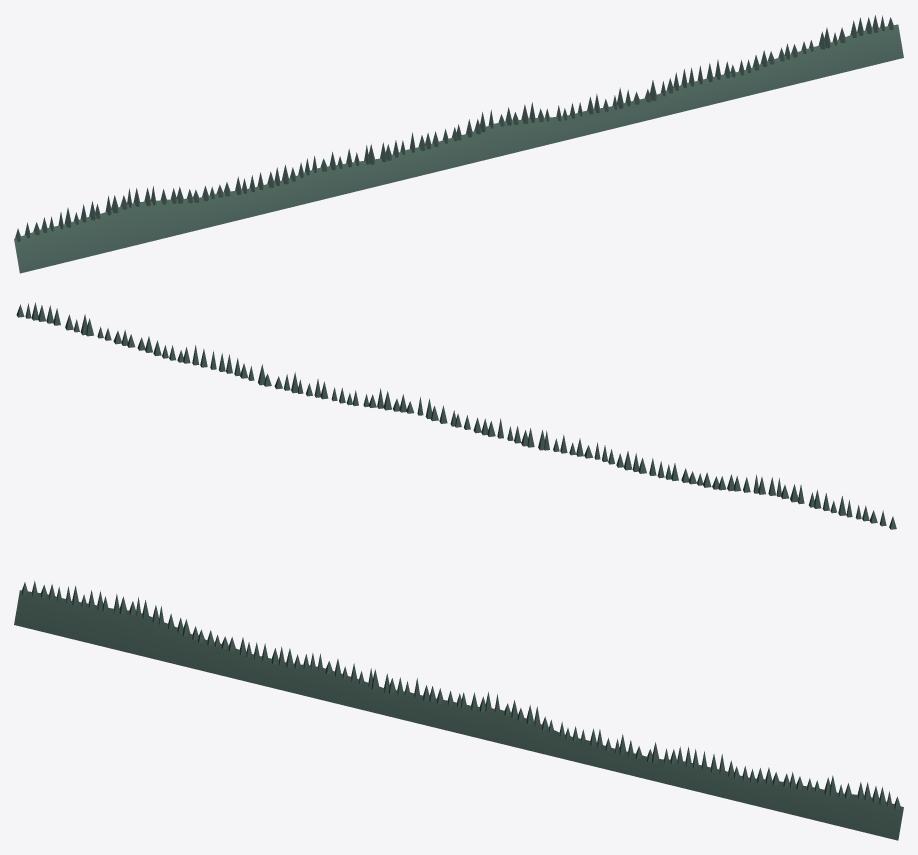
3 renders of one model, top to bottom at view 1: azimuth 30°, elevation 25°; view 2: azimuth 150°, elevation 25°; view 3: azimuth 330°, elevation 25°, orthographic.
Visible parts, largest first — view 1: rn_hz_a; view 2: rn_hz_a; view 3: rn_hz_a.
Part boxes in pixels (left/top/right/bottom): rn_hz_a: left=14, top=15, right=903, bottom=273; rn_hz_a: left=16, top=302, right=896, bottom=529; rn_hz_a: left=14, top=580, right=903, bottom=840.
Size of the model in its own units: 420 by 23.52 by 8.24.
